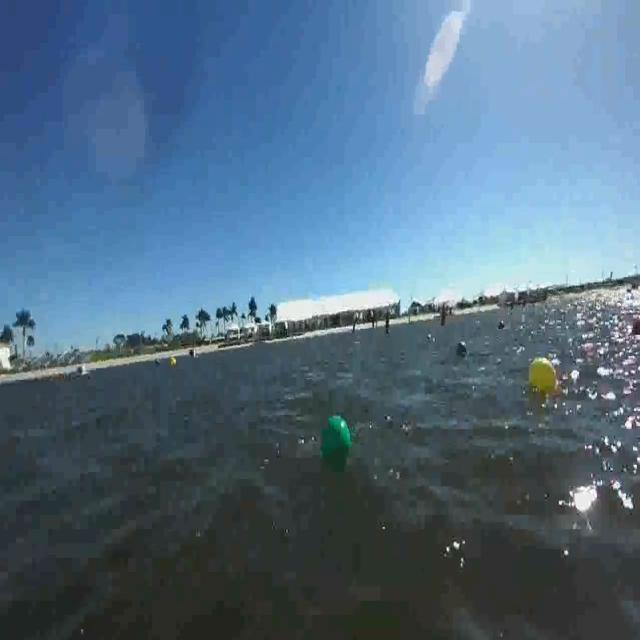green-buoy: (322, 414, 354, 472), (457, 342, 467, 357)
yellow-buoy: (528, 358, 556, 392), (171, 355, 177, 367)
